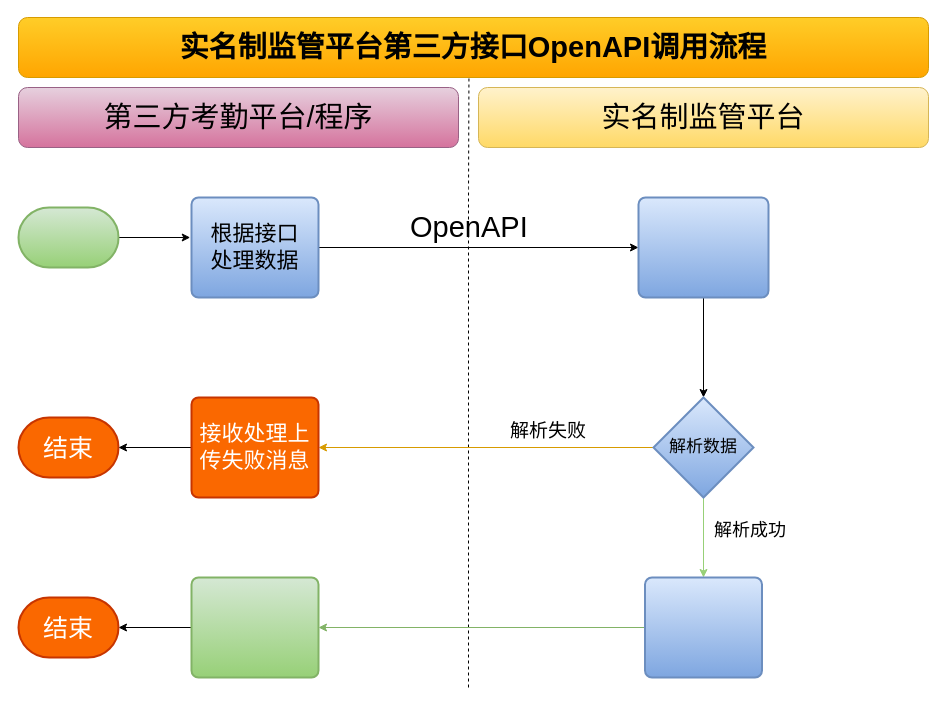
This 946x706 diagram has some shape labels left out. Here are the shapes that lost their labels. From the top down, the centre of each, then its label:
At point 68,237: "开始".
At point 703,247: "接收数据".
At point 254,627: "接收处理上 传成功消息".
At point 703,627: "处理数据".
